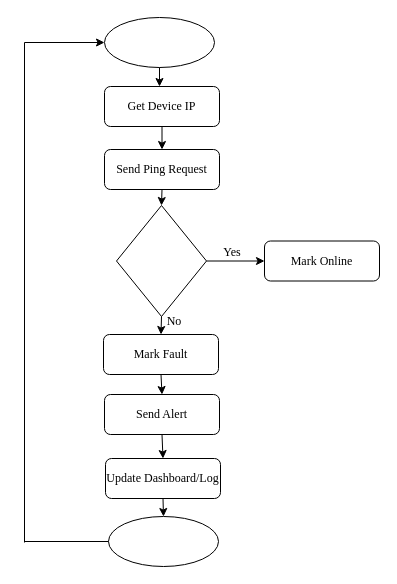
Some shapes in this 397 by 584 pixel diagram are drawn without their labels. The centre of each missing label's shape, as x and y in pixels:
"Is Device Reachable?" belongs at point 161,260.
"Loop Back" belongs at point 163,541.
"Start Monitoring" belongs at point 159,42.
